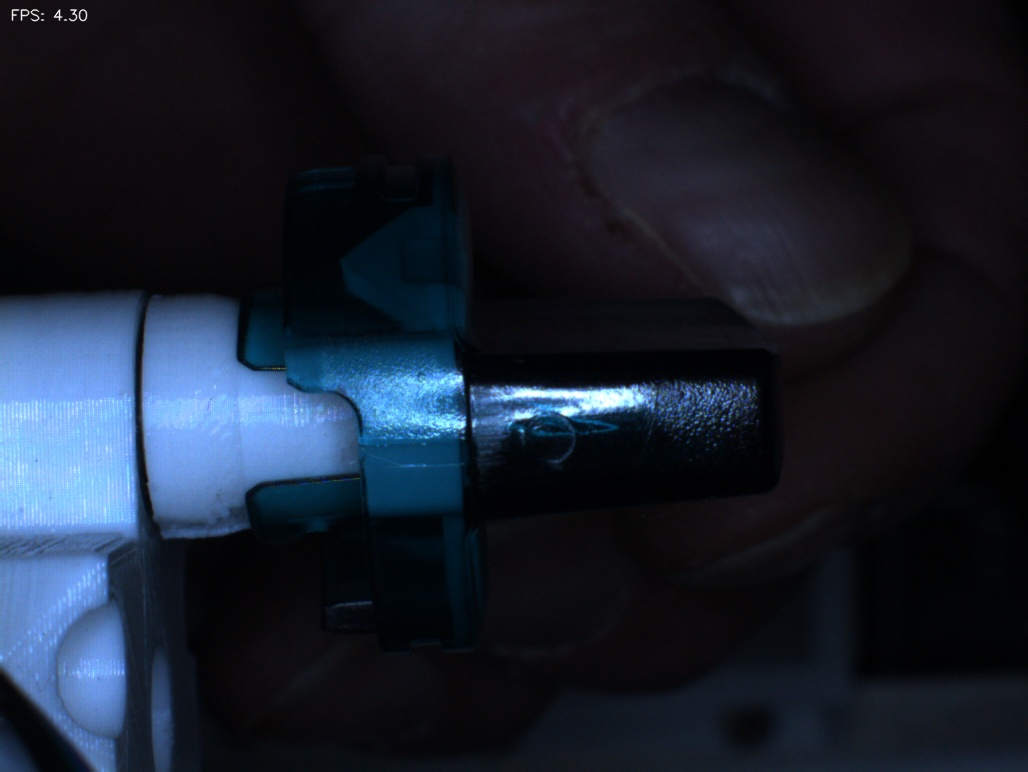DentOk: (316, 222, 384, 322)
